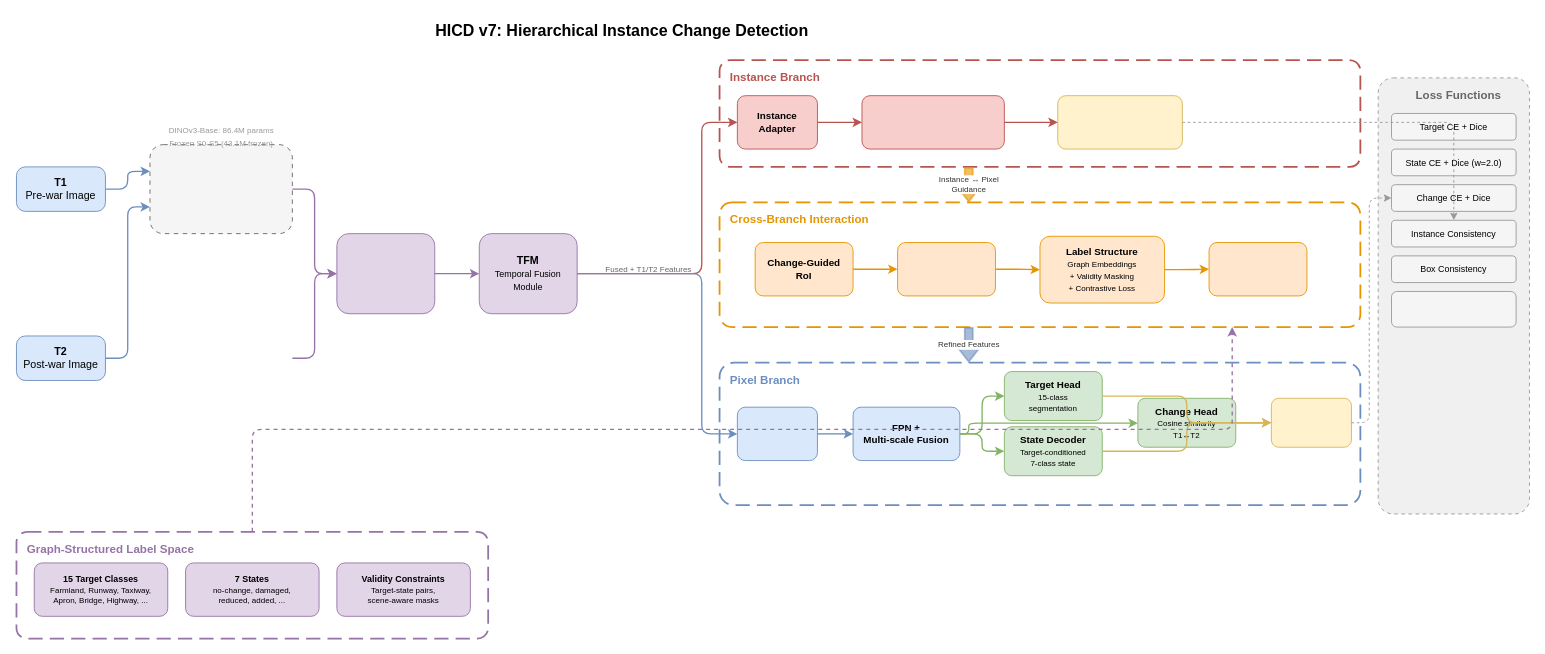
This 1545x654 diagram has some shape labels left out. The shapes that lost their labels are listed below. From the top down, each one's box as (x1, y1, x2, y2) in pixels, then its label:
(861, 95, 1004, 149): Instance Refinement RoI Align → Cosine Sim with State Embeddings
(1057, 95, 1182, 149): Instance State Per-object: no-change / damaged / reduced
(149, 144, 292, 234): DINOv3 Backbone Frozen S0-S5, Trainable S6-S11 Out: [C2, C3, C4, C5]
(336, 233, 435, 314): NFA × 2 Neighbor Feature Aggregation
(897, 242, 995, 296): Spatial Modulation
(1208, 242, 1307, 296): Consistency Loss
(1391, 291, 1516, 327): Contrastive Label Structure
(736, 406, 817, 461): Semantic Adapter
(1270, 397, 1351, 447): Pixel Outputs Target Map + State Map + Change Map
